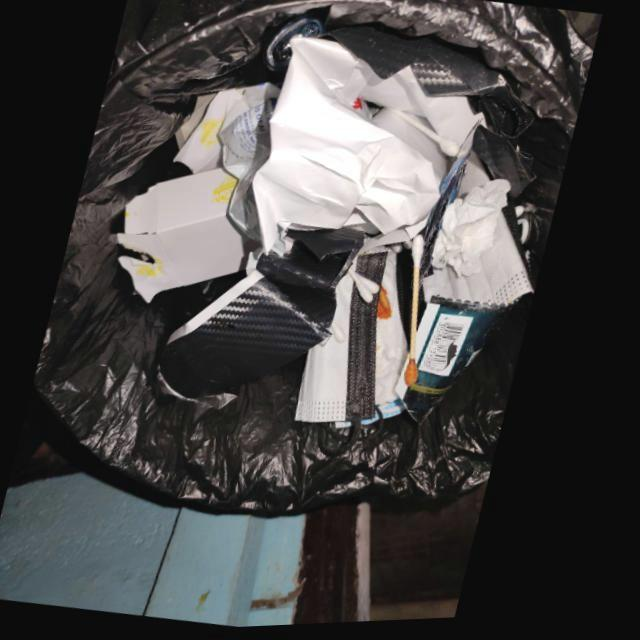cardboard: (121, 170, 248, 305), (175, 85, 269, 176)
paper: (255, 38, 491, 259), (221, 102, 276, 246), (437, 183, 515, 282)
plastic_container: (409, 298, 512, 419)
